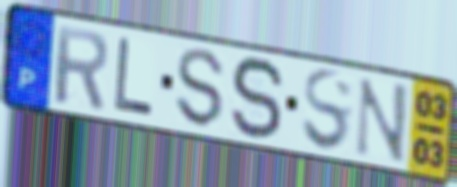L: (111, 34, 156, 121)
N: (352, 75, 411, 166)
R: (53, 22, 111, 112)
S: (229, 54, 286, 143), (300, 67, 355, 155), (174, 46, 227, 131)
